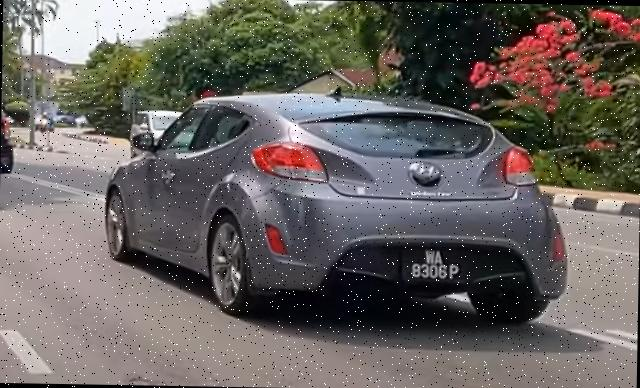License_Plate: (401, 247, 470, 288)
car: (103, 83, 572, 326)
